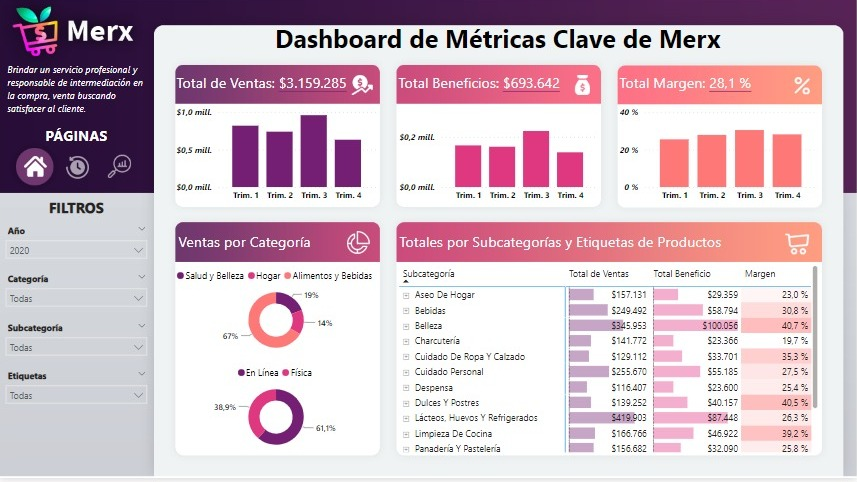

What the dashboard file says about the page in this screenshot:
{"tool":"powerbi","page":{"name":"1","canvas":[1280,720],"ordinal":0},"visuals":[{"type":"slicer","fields":{"Values":["Transacciones.Fecha.Variación.Jerarquía de fechas.Año"]},"box":[0,335.4,230.8,72.3],"z":0},{"type":"pivotTable","fields":{"Rows":["Transacciones.Subcategoría","Transacciones.Etiquetas"],"Values":["Transacciones.Total de Ventas","Transacciones.Total Beneficio","Transacciones.Margen"]},"box":[592.3,396.9,635.4,289.2],"z":1000},{"type":"slicer","fields":{"Values":["Transacciones.Categoría"]},"box":[0,407.7,230.8,72.3],"z":2000},{"type":"slicer","fields":{"Values":["Transacciones.Subcategoría"]},"box":[0,480,230.8,72.3],"z":3000},{"type":"slicer","fields":{"Values":["Transacciones.Etiquetas"]},"box":[0,552.3,230.8,72.3],"z":4000},{"type":"columnChart","fields":{"Category":["Transacciones.Fecha.Variación.Jerarquía de fechas.Año","Transacciones.Fecha.Variación.Jerarquía de fechas.Trimestre","Transacciones.Fecha.Variación.Jerarquía de fechas.Mes","Transacciones.Fecha.Variación.Jerarquía de fechas.Día"],"Y":["Transacciones.Total Beneficio"]},"box":[592.3,160,306.2,155.4],"z":5000},{"type":"columnChart","fields":{"Category":["Transacciones.Fecha.Variación.Jerarquía de fechas.Año","Transacciones.Fecha.Variación.Jerarquía de fechas.Trimestre","Transacciones.Fecha.Variación.Jerarquía de fechas.Mes","Transacciones.Fecha.Variación.Jerarquía de fechas.Día"],"Y":["Transacciones.Margen"]},"box":[921.5,160,306.2,155.4],"z":6000},{"type":"columnChart","fields":{"Category":["Transacciones.Fecha.Variación.Jerarquía de fechas.Año","Transacciones.Fecha.Variación.Jerarquía de fechas.Trimestre","Transacciones.Fecha.Variación.Jerarquía de fechas.Mes","Transacciones.Fecha.Variación.Jerarquía de fechas.Día"],"Y":["Transacciones.Total de Ventas"]},"box":[260,160,307.7,155.4],"z":7000},{"type":"donutChart","fields":{"Y":["Transacciones.Total de Ventas"],"Category":["Transacciones.Categoría"]},"box":[260,396.9,307.7,144.6],"z":8000},{"type":"donutChart","fields":{"Category":["Transacciones.Tipo de Compra"],"Y":["Transacciones.Total de Ventas"]},"box":[260,541.5,307.7,144.6],"z":10000},{"type":"textbox","box":[260,109.2,307.7,67.7],"z":11000},{"type":"textbox","box":[590.8,109.2,307.7,67.7],"z":12000},{"type":"textbox","box":[921.5,109.2,307.7,67.7],"z":13000},{"type":"textbox","box":[7.4,95.6,214.8,92.7],"z":14000},{"type":"textbox","box":[229.2,32.3,1029.2,87.7],"z":15000},{"type":"textbox","box":[0,187.7,230.8,40],"z":16000},{"type":"textbox","box":[0,295.4,230.8,40],"z":17000},{"type":"textbox","box":[263.1,346.2,287.7,50.8],"z":18000},{"type":"textbox","box":[592.3,346.2,527.7,50.8],"z":19000},{"type":"actionButton","box":[30.4,237.5,47.5,40.2],"z":20000},{"type":"actionButton","box":[98.6,243.6,37.8,29.2],"z":21000},{"type":"actionButton","box":[163.2,237.5,37.8,35.3],"z":22000}]}

Visuals, with their boxes in screenshot pixels (x1, y1, x2, y2), scaled from the page's 1280x720 canvas onto the 857x482 screenshot:
slicer - Transacciones.Fecha.Variación.Jerarquía de fechas.Año: x1=0, y1=225, x2=155, y2=273
pivotTable - Transacciones.Subcategoría x Transacciones.Etiquetas: x1=397, y1=266, x2=822, y2=459
slicer - Transacciones.Categoría: x1=0, y1=273, x2=155, y2=321
slicer - Transacciones.Subcategoría: x1=0, y1=321, x2=155, y2=370
slicer - Transacciones.Etiquetas: x1=0, y1=370, x2=155, y2=418
columnChart - Transacciones.Fecha.Variación.Jerarquía de fechas.Año x Transacciones.Fecha.Variación.Jerarquía de fechas.Trimestre: x1=397, y1=107, x2=602, y2=211
columnChart - Transacciones.Fecha.Variación.Jerarquía de fechas.Año x Transacciones.Fecha.Variación.Jerarquía de fechas.Trimestre: x1=617, y1=107, x2=822, y2=211
columnChart - Transacciones.Fecha.Variación.Jerarquía de fechas.Año x Transacciones.Fecha.Variación.Jerarquía de fechas.Trimestre: x1=174, y1=107, x2=380, y2=211
donutChart - Transacciones.Total de Ventas x Transacciones.Categoría: x1=174, y1=266, x2=380, y2=363
donutChart - Transacciones.Tipo de Compra x Transacciones.Total de Ventas: x1=174, y1=363, x2=380, y2=459
textbox: x1=174, y1=73, x2=380, y2=118
textbox: x1=396, y1=73, x2=602, y2=118
textbox: x1=617, y1=73, x2=823, y2=118
textbox: x1=5, y1=64, x2=149, y2=126
textbox: x1=153, y1=22, x2=843, y2=80
textbox: x1=0, y1=126, x2=155, y2=152
textbox: x1=0, y1=198, x2=155, y2=225
textbox: x1=176, y1=232, x2=369, y2=266
textbox: x1=397, y1=232, x2=750, y2=266
actionButton: x1=20, y1=159, x2=52, y2=186
actionButton: x1=66, y1=163, x2=91, y2=183
actionButton: x1=109, y1=159, x2=135, y2=183
